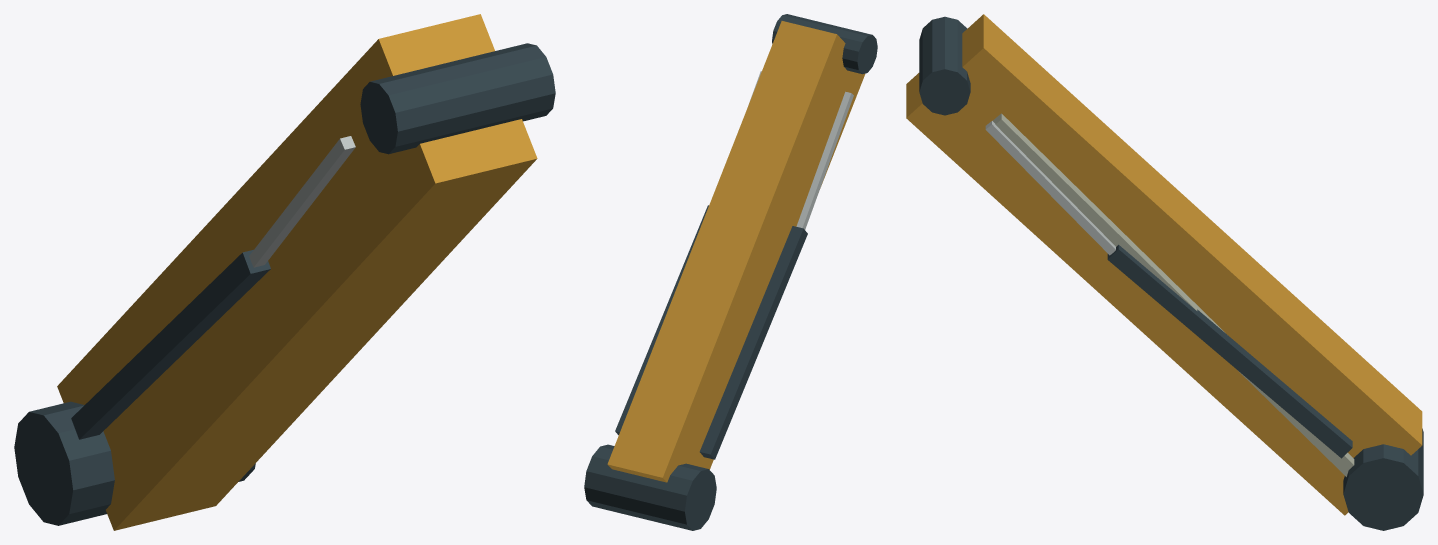
File: exc-boom.glb
3 renders of one model, left to right at view 1: azimuth 30°, elevation 25°; view 2: azimuth 150°, elevation 25°; view 3: azimuth 270°, elevation 25°, orthographic. The views are drawn at different scales.
Size of the model in its own units: 2 by 7.08 by 7.08.
